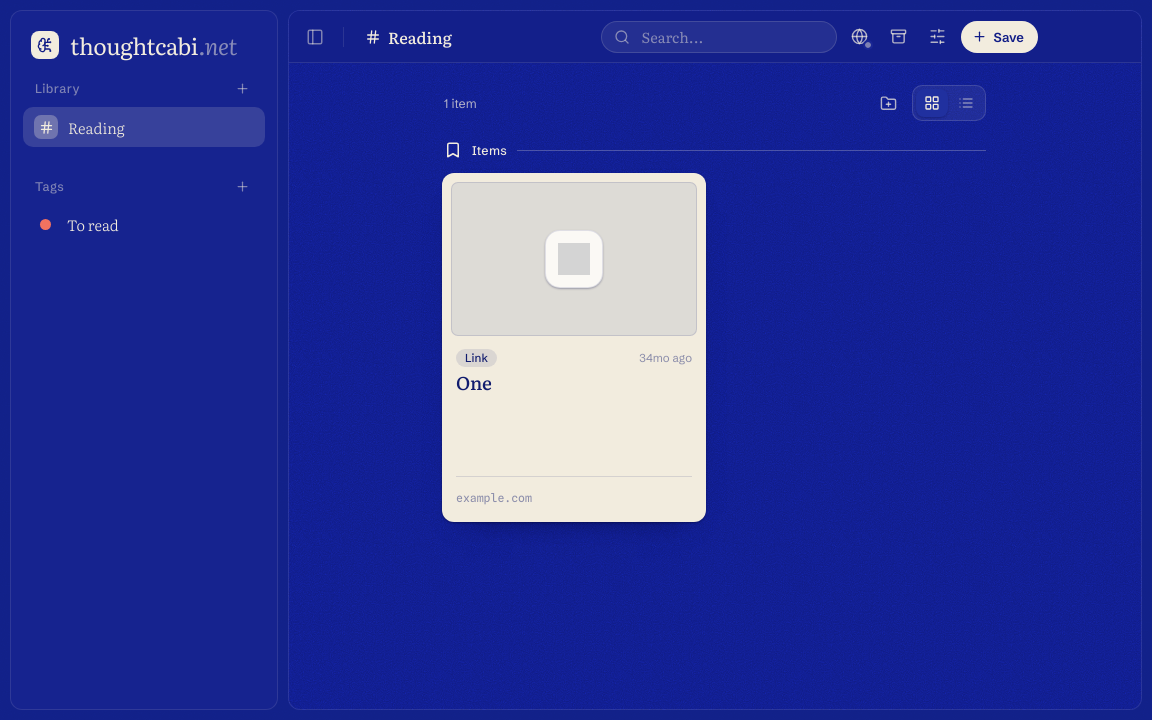
the destinations list › keeps a place a newer build connected, inert, with a working Disconnect
The image size is (1152, 720).
Click the button named "Your cabinet".
click(898, 36)  # box [882,20,914,52]
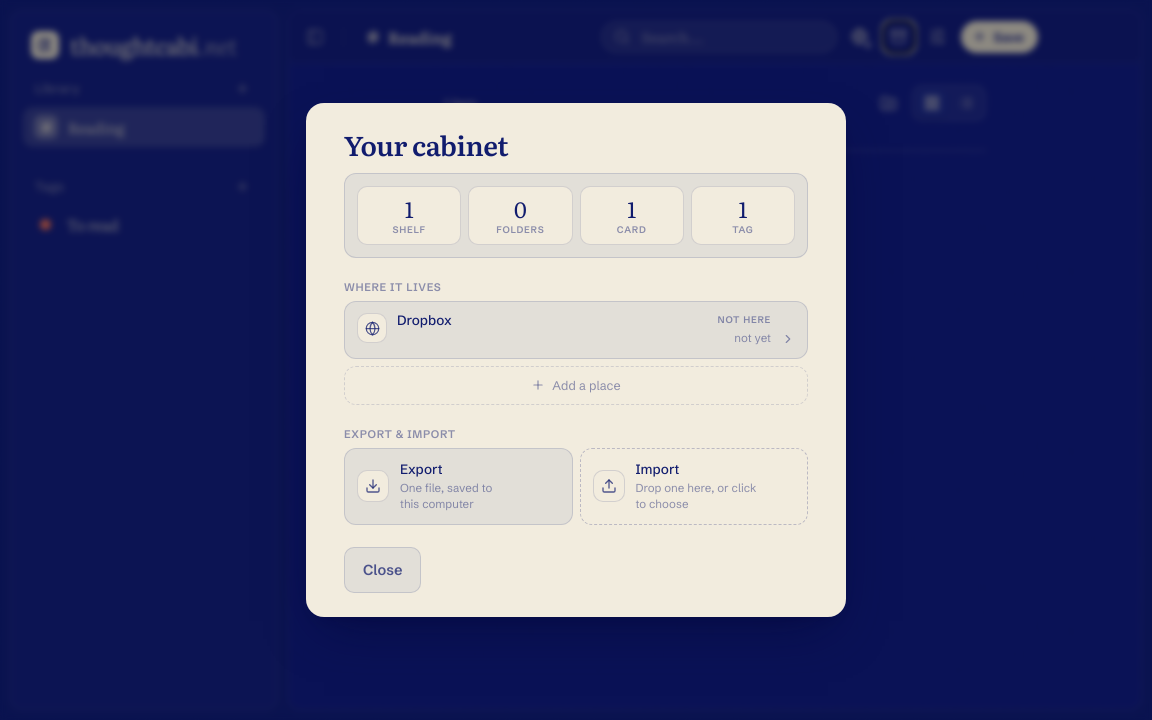
Check: the text "Dropbox" is shown, box [397,312,452,328]
Check: the text "Not here" is shown, box [718,314,771,325]
Click the button "Dropbox Not here not yet".
click(424, 320)  # box [345,302,807,358]
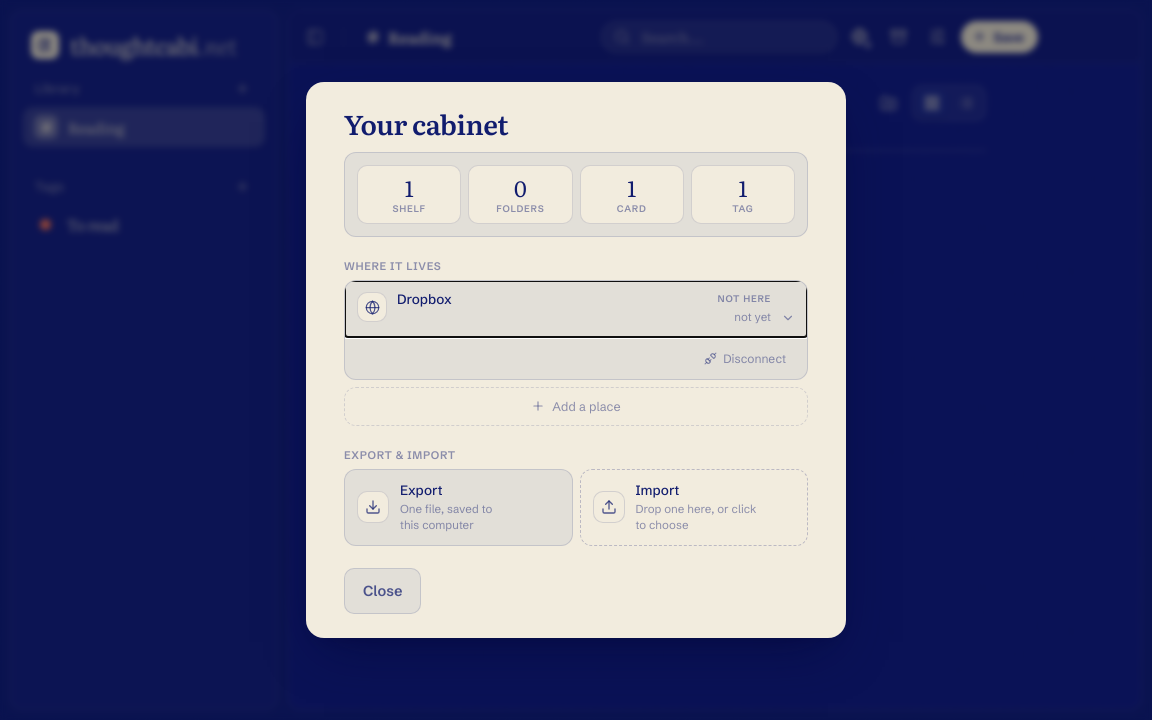
Click the button "Disconnect".
click(745, 358)  # box [695,347,795,370]
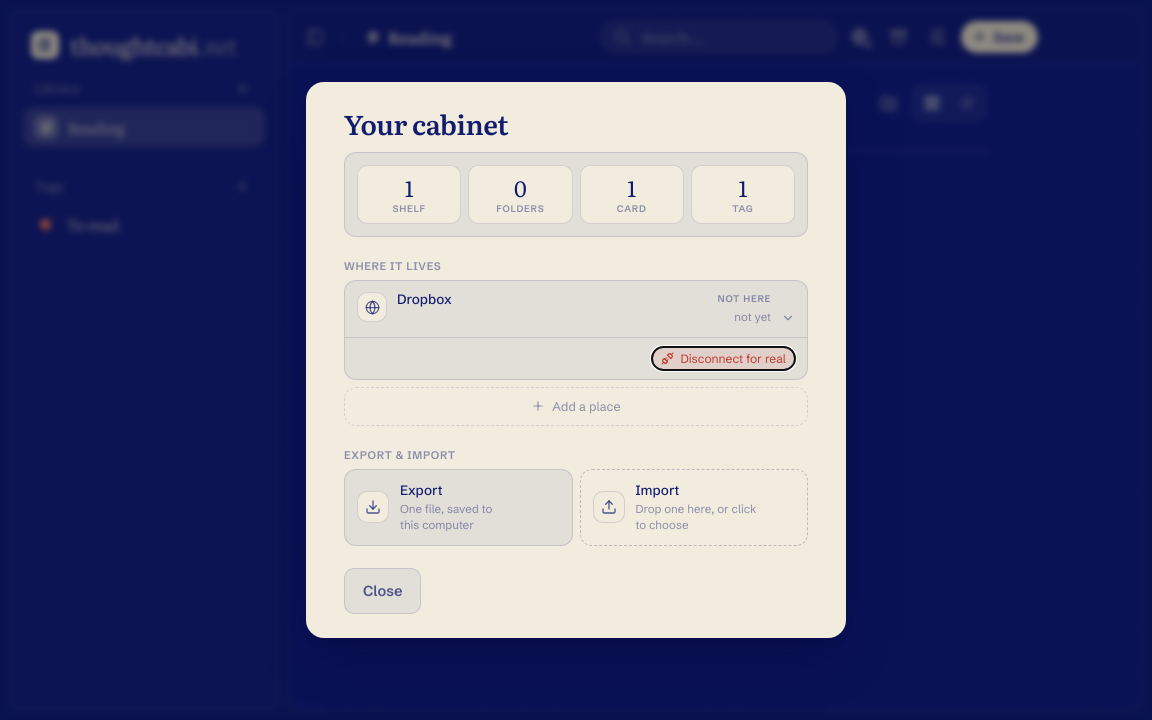
Click the button "Disconnect for real".
click(724, 358)  # box [652,347,795,370]
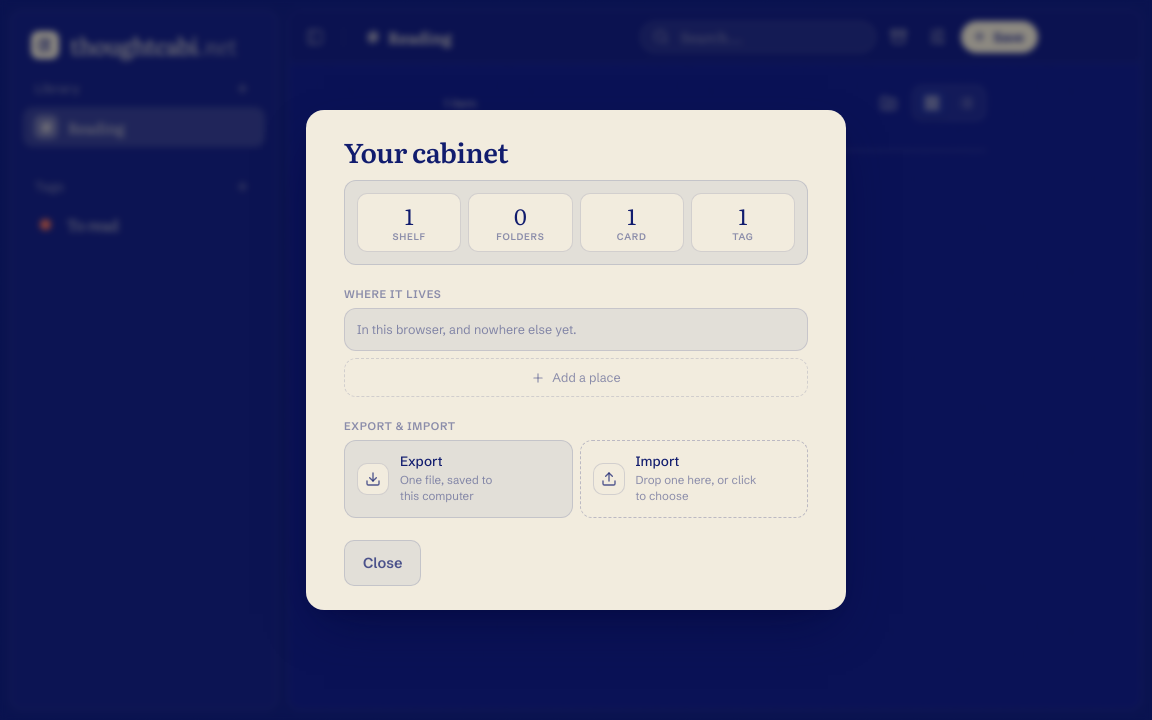
Check: the button "Dropbox" is gone
